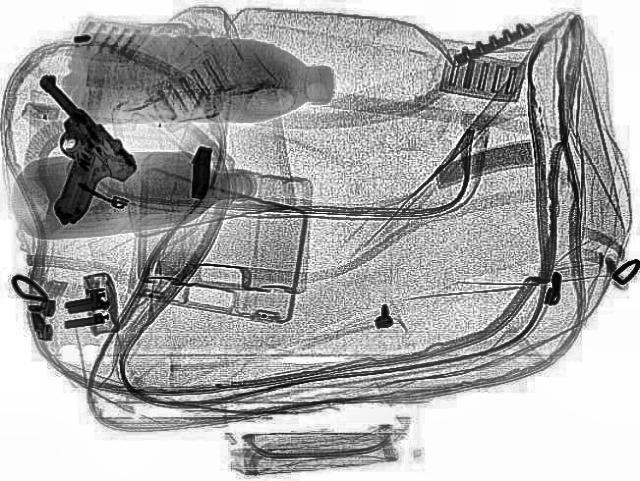Gun: (36, 70, 142, 224)
